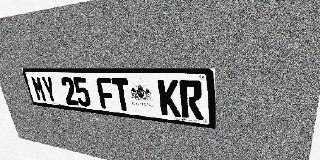2: (60, 77, 79, 106)
5: (72, 77, 92, 107)
F: (96, 78, 116, 110)
K: (158, 79, 181, 117)
M: (30, 76, 48, 102)
R: (179, 80, 203, 120)
T: (111, 78, 132, 112)
Y: (40, 76, 58, 103)
